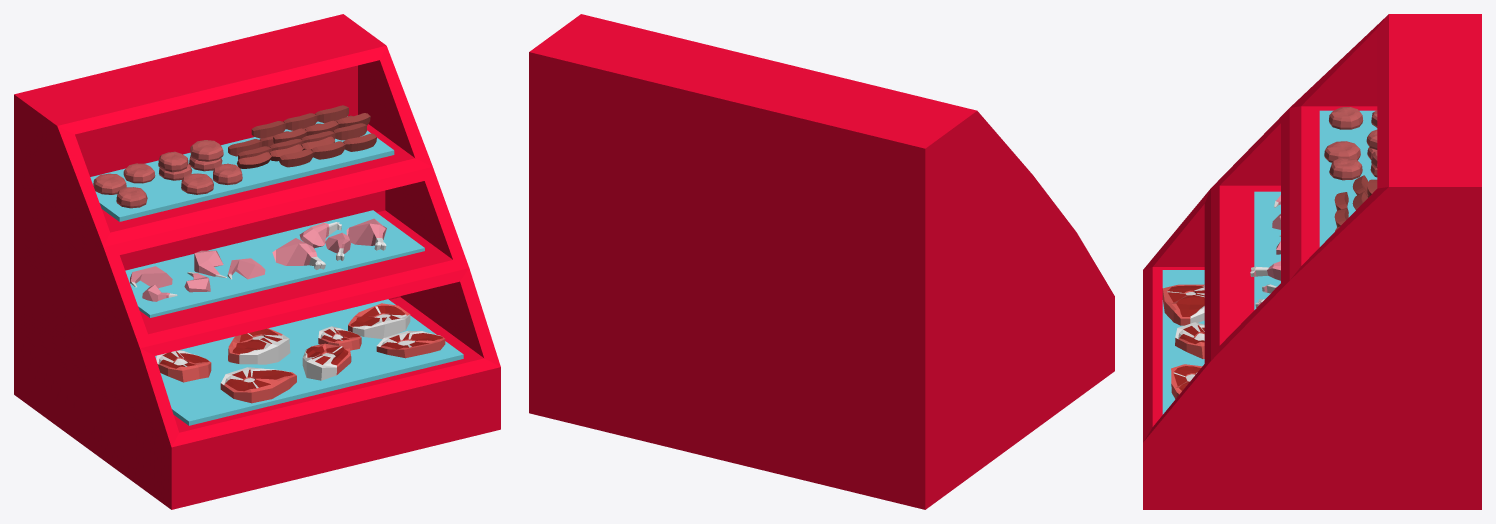
File: MeatMyRequests.glb
The picture shows the model from 3 angles, left to right: view 1: azimuth 30°, elevation 25°; view 2: azimuth 150°, elevation 25°; view 3: azimuth 270°, elevation 25°; orthographic projection. The views are drawn at different scales.
Visible parts, largest first — view 1: Cube.084, Cube.085, Cube.086, Cube.087, Cube.079, Cube.089, Cube.093, Cube.091, Cube.090, Cube.092, Cube.102, Cube.106 (+15 smaller); view 2: Cube.084; view 3: Cube.084, Cube.087, Cube.086, Cube.085, Cube.079, Cube.091, Cylinder.001, Cylinder.006, Cube.090, Cylinder.004, Cube.102, Cube.107.
Part boxes in pixels (x1,y1,x2,y2): Cube.084: (14,14,500,509); Cube.085: (155,299,463,425); Cube.086: (125,210,424,317); Cube.087: (90,116,394,221); Cube.079: (220,367,296,403); Cube.089: (228,328,290,364); Cube.093: (348,303,410,338); Cube.091: (302,343,351,380); Cube.090: (376,330,445,358); Cube.092: (156,350,211,382); Cube.102: (279,133,376,167); Cube.106: (251,105,348,138); Cube.084: (529,14,1114,509); Cube.084: (1143,14,1481,509); Cube.087: (1319,110,1377,246); Cube.086: (1254,191,1280,309); Cube.085: (1162,270,1204,414); Cube.079: (1162,284,1204,325); Cube.091: (1175,322,1204,358); Cylinder.001: (1329,107,1363,129); Cylinder.006: (1329,158,1362,180); Cube.090: (1171,364,1202,398); Cylinder.004: (1324,141,1360,162); Cube.102: (1334,192,1348,231); Cube.107: (1352,175,1368,209).
Size of the model in its own units: 2.85 by 2.48 by 2.36.
